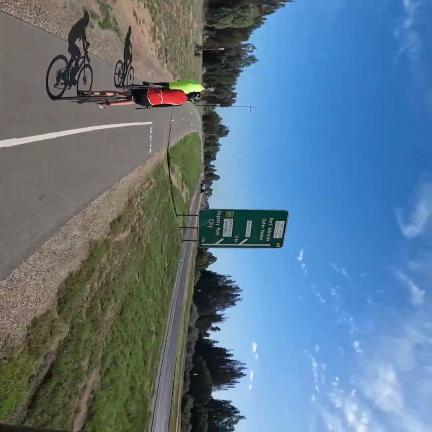Bike_Lane: (0, 12, 201, 277), (90, 57, 114, 90)
